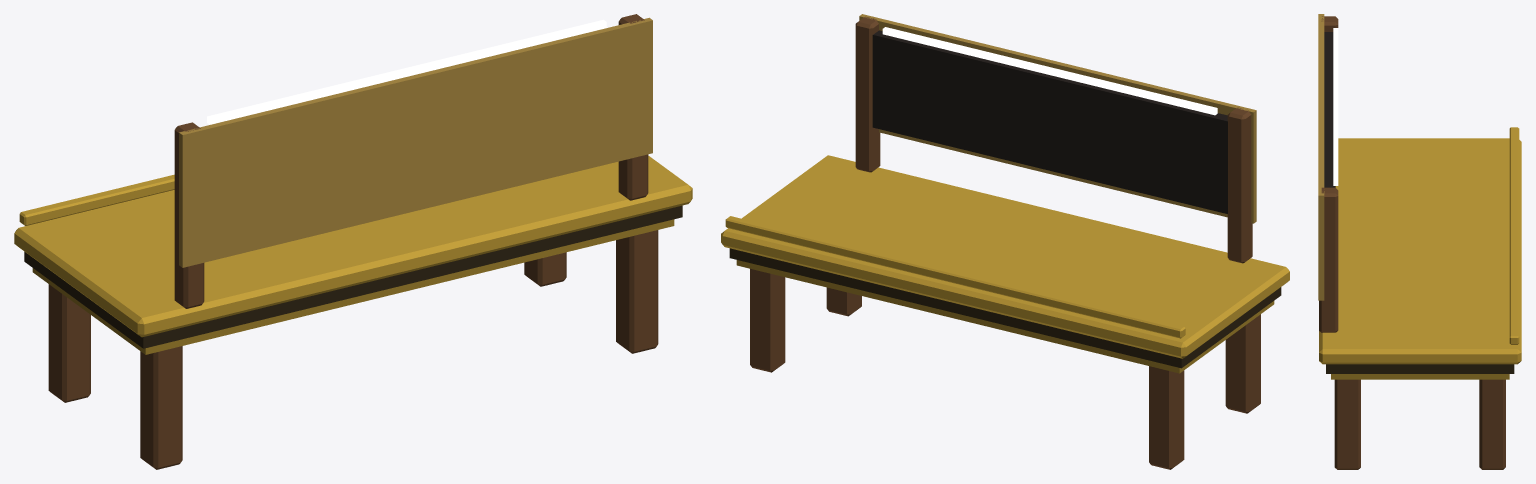
Rendered from RobuxTable.glb.
3 views of the same model, side by side, from view 1: azimuth 30°, elevation 25°; view 2: azimuth 150°, elevation 25°; view 3: azimuth 270°, elevation 25° (orthographic). The views are drawn at different scales.
Visible parts, largest first — view 1: Body, Glow; view 2: Body, Sign, Glow; view 3: Body, Sign, Glow.
Boxes of the visible parts, x1=… form: Body: x1=14, y1=14, x2=692, y2=469; Glow: x1=207, y1=19, x2=606, y2=124; Body: x1=721, y1=14, x2=1289, y2=469; Sign: x1=872, y1=30, x2=1227, y2=213; Glow: x1=882, y1=27, x2=1217, y2=115; Body: x1=1318, y1=14, x2=1521, y2=469; Sign: x1=1324, y1=32, x2=1335, y2=187; Glow: x1=1333, y1=28, x2=1338, y2=185.
Size of what is drawn, in the model's own units: 10.5 by 6.16 by 4.21.
